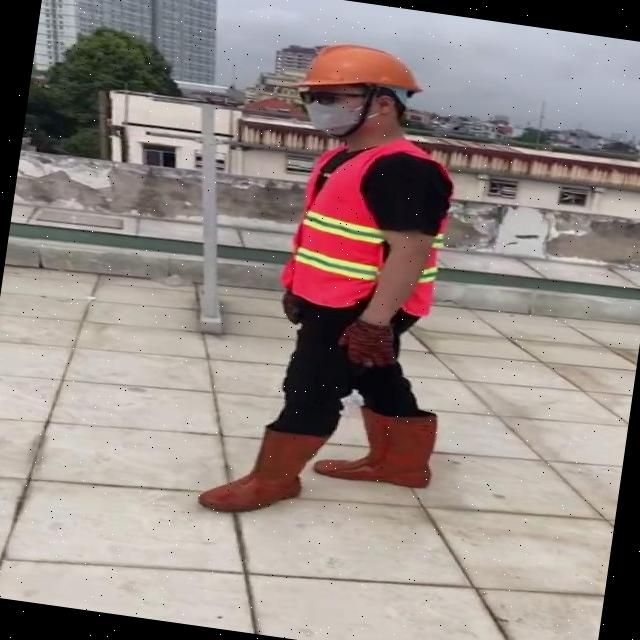boots: (199, 420, 320, 522), (316, 401, 441, 494)
